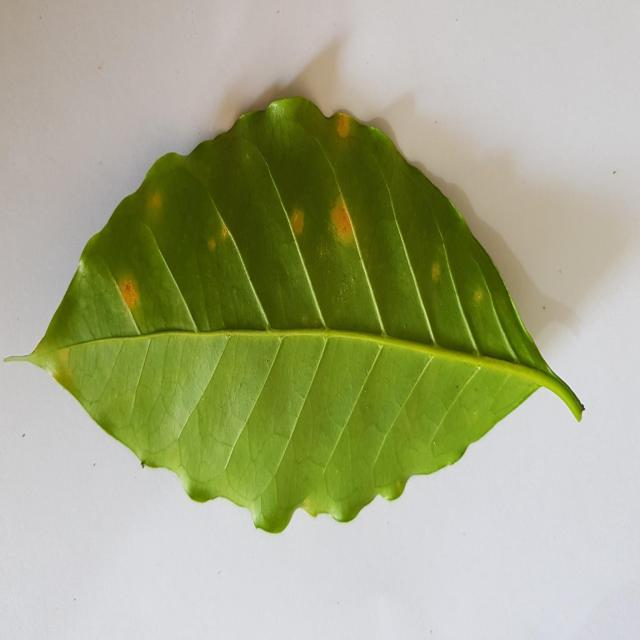Enfermedad-Roya: (8, 96, 585, 536)
